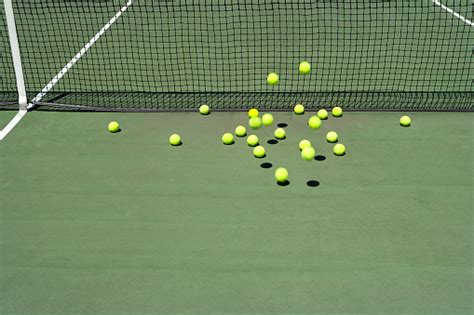tennis_ball: (301, 146, 317, 164), (332, 142, 347, 157), (275, 167, 289, 182), (248, 115, 263, 129), (265, 72, 279, 86), (298, 61, 311, 75), (308, 115, 321, 129), (298, 138, 312, 151), (168, 133, 181, 146), (234, 124, 247, 137), (246, 134, 259, 147), (107, 120, 119, 133), (326, 130, 339, 142), (253, 145, 265, 158), (222, 132, 234, 145), (399, 115, 411, 127), (293, 102, 305, 114), (262, 113, 274, 125), (332, 105, 343, 117), (317, 108, 328, 120), (274, 127, 285, 139), (199, 104, 210, 115), (247, 108, 260, 117)
